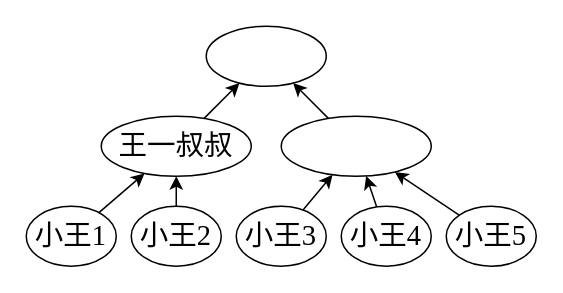
Some shapes in this 563 by 293 pixel diagram are drawn without their labels. Here are the shapes that lost their labels. From the top down, the centre of each, then its label:
[265,55]: 王爷爷
[355,145]: 王二叔叔
